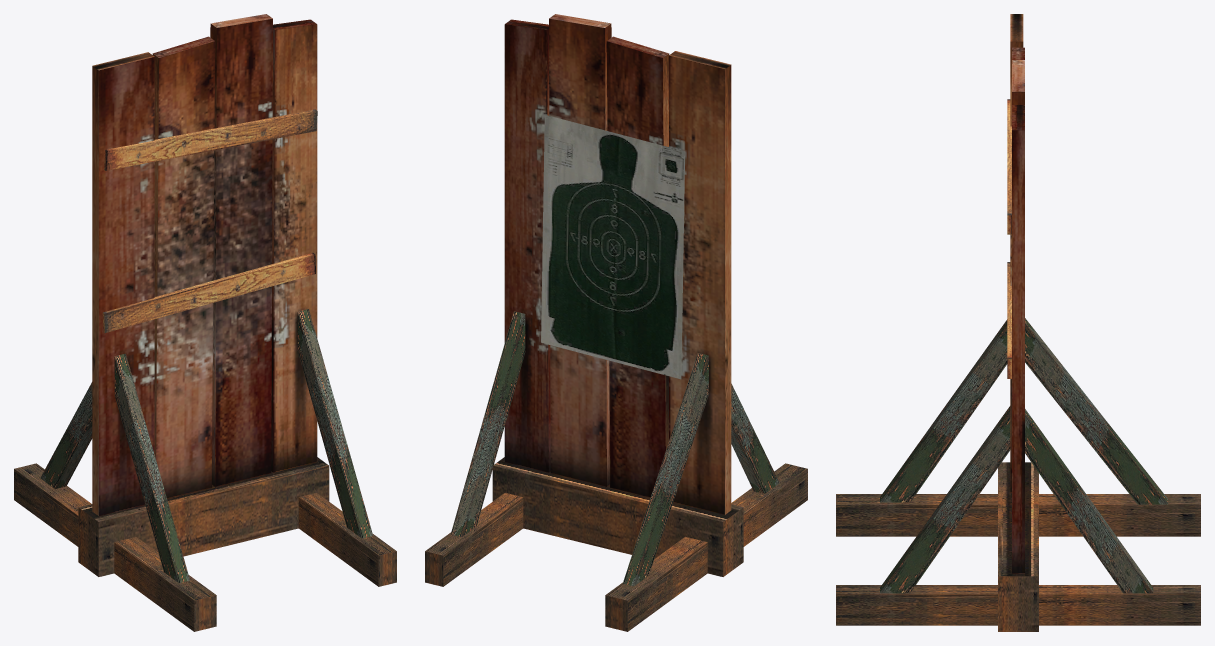
File: targetwall.fbx
3 views of the same model, side by side, from view 1: azimuth 30°, elevation 25°; view 2: azimuth 150°, elevation 25°; view 3: azimuth 270°, elevation 25° (orthographic).
Parts seen in each view (by area): view 1: mesh_0; view 2: mesh_0, mesh_1; view 3: mesh_0.
Boxes of the visible parts, left/top/right/bottom form: mesh_0: left=14, top=14, right=396, bottom=631; mesh_0: left=425, top=14, right=807, bottom=631; mesh_1: left=541, top=114, right=685, bottom=379; mesh_0: left=836, top=14, right=1200, bottom=631.
Bounding box in the file's own units: 131 × 280 × 178.
Materials: 2 (2 with a texture image).
